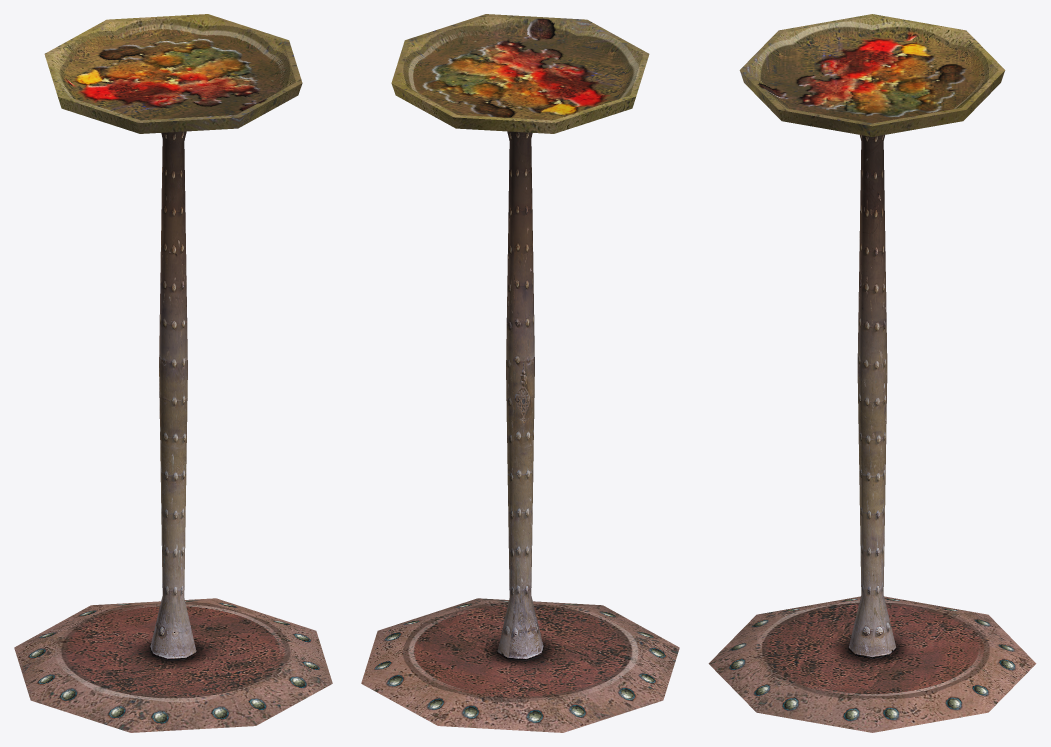
File: Candle_Pedestal.fbx
3 renders of one model, left to right at view 1: azimuth 30°, elevation 25°; view 2: azimuth 150°, elevation 25°; view 3: azimuth 270°, elevation 25°, orthographic.
Visible parts, largest first — view 1: Candle_Pedestal; view 2: Candle_Pedestal; view 3: Candle_Pedestal.
Boxes of the visible parts, x1,y1,x2,y2 form: Candle_Pedestal: (14,14,332,732); Candle_Pedestal: (361,14,679,732); Candle_Pedestal: (708,14,1036,732).
Size of the model in its own units: 0.7443 by 1.49 by 0.7443.
